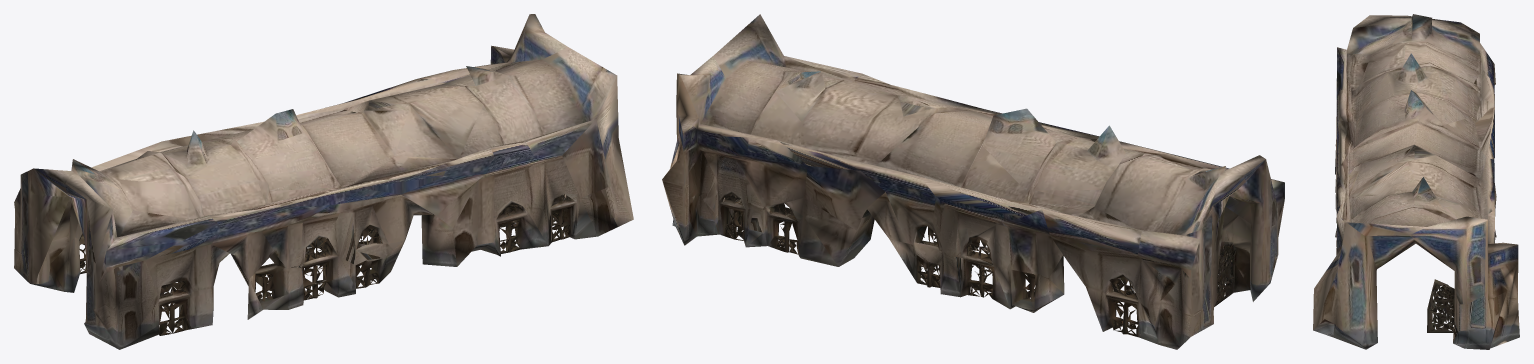
File: market_hall.glb
3 renders of one model, left to right at view 1: azimuth 30°, elevation 25°; view 2: azimuth 150°, elevation 25°; view 3: azimuth 270°, elevation 25°, orthographic. The views are drawn at different scales.
Parts seen in each view (by area): view 1: tripo_node_e37ebeae-23e5-4b6c-9151-375d910728df; view 2: tripo_node_e37ebeae-23e5-4b6c-9151-375d910728df; view 3: tripo_node_e37ebeae-23e5-4b6c-9151-375d910728df.
Boxes of the visible parts, x1,y1,x2,y2 form: tripo_node_e37ebeae-23e5-4b6c-9151-375d910728df: [14, 14, 633, 349]; tripo_node_e37ebeae-23e5-4b6c-9151-375d910728df: [662, 14, 1284, 349]; tripo_node_e37ebeae-23e5-4b6c-9151-375d910728df: [1313, 14, 1519, 349].
Size of the model in its own units: 0.9765 by 0.2871 by 0.3952.
1 material, 1 textured.
